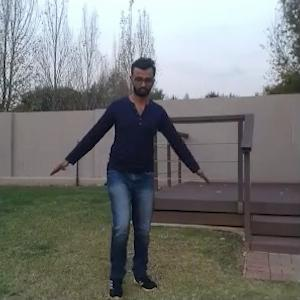land: (51, 57, 209, 292)
